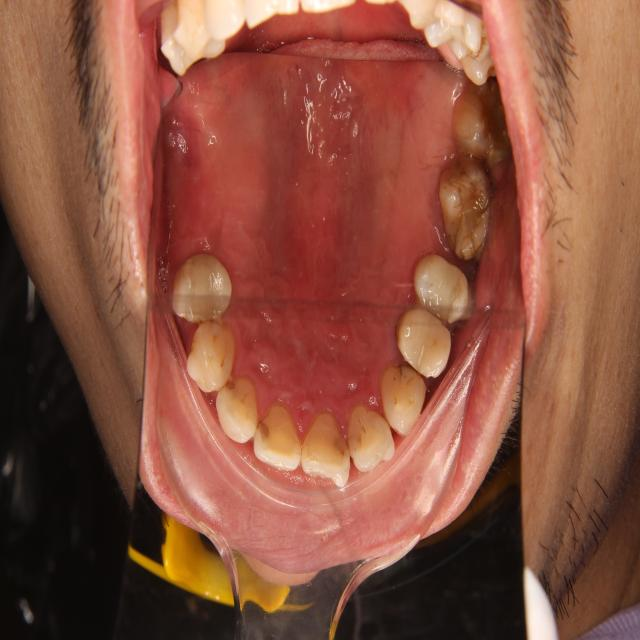tooth: (246, 381, 310, 491), (435, 159, 499, 264), (167, 243, 240, 332), (373, 356, 442, 447), (336, 387, 402, 477), (179, 310, 245, 399), (447, 81, 509, 174), (297, 403, 358, 496), (212, 364, 269, 457), (407, 247, 473, 326), (392, 304, 460, 380)
